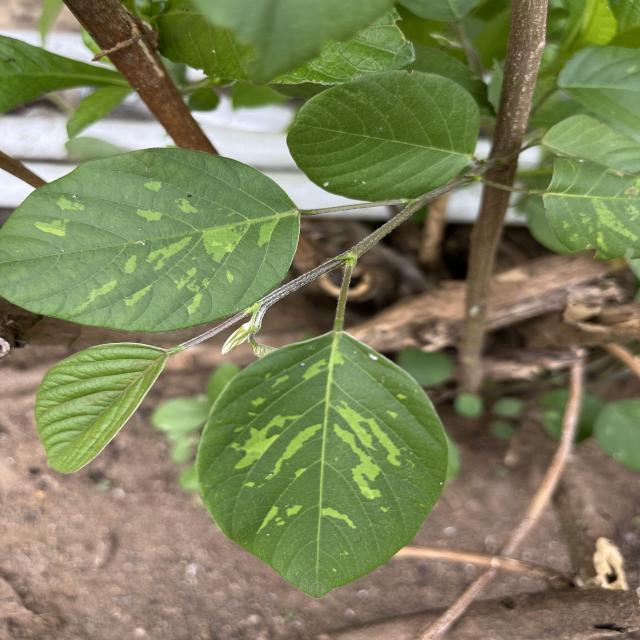Desmodium gangeticum: (190, 327, 454, 602), (0, 142, 308, 337)
